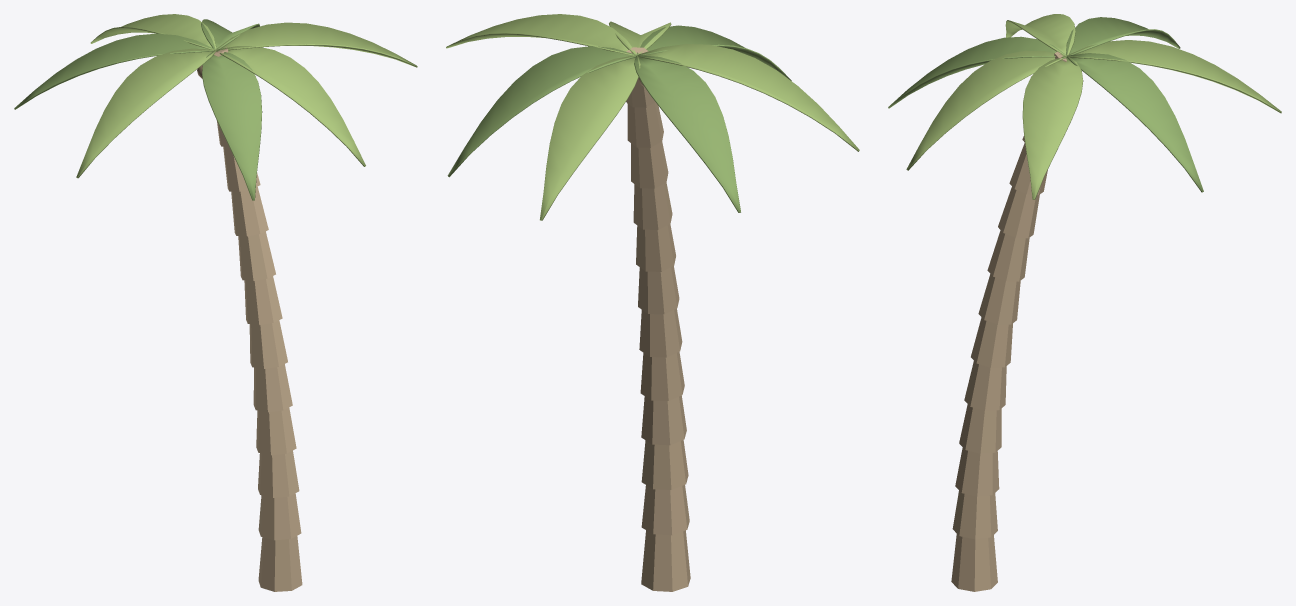
The model's file is Palm_1.gltf.
3 views of the same model, side by side, from view 1: azimuth 30°, elevation 25°; view 2: azimuth 150°, elevation 25°; view 3: azimuth 270°, elevation 25° (orthographic). The views are drawn at different scales.
Visible parts, largest first — view 1: Palm_1; view 2: Palm_1; view 3: Palm_1.
Part boxes in pixels (left/top/right/bottom): Palm_1: left=14, top=14, right=417, bottom=591; Palm_1: left=446, top=14, right=859, bottom=591; Palm_1: left=888, top=14, right=1281, bottom=591.
Bounding box in the file's own units: 3.82 × 5.26 × 3.6.
